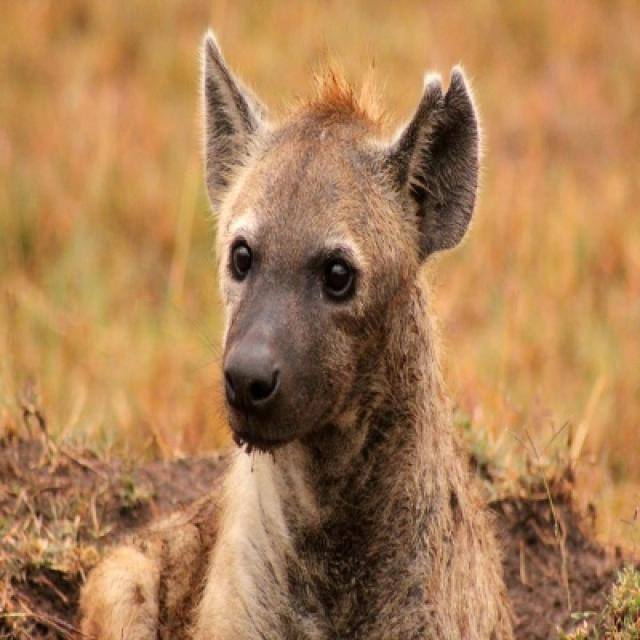hyena: (77, 30, 518, 638)
